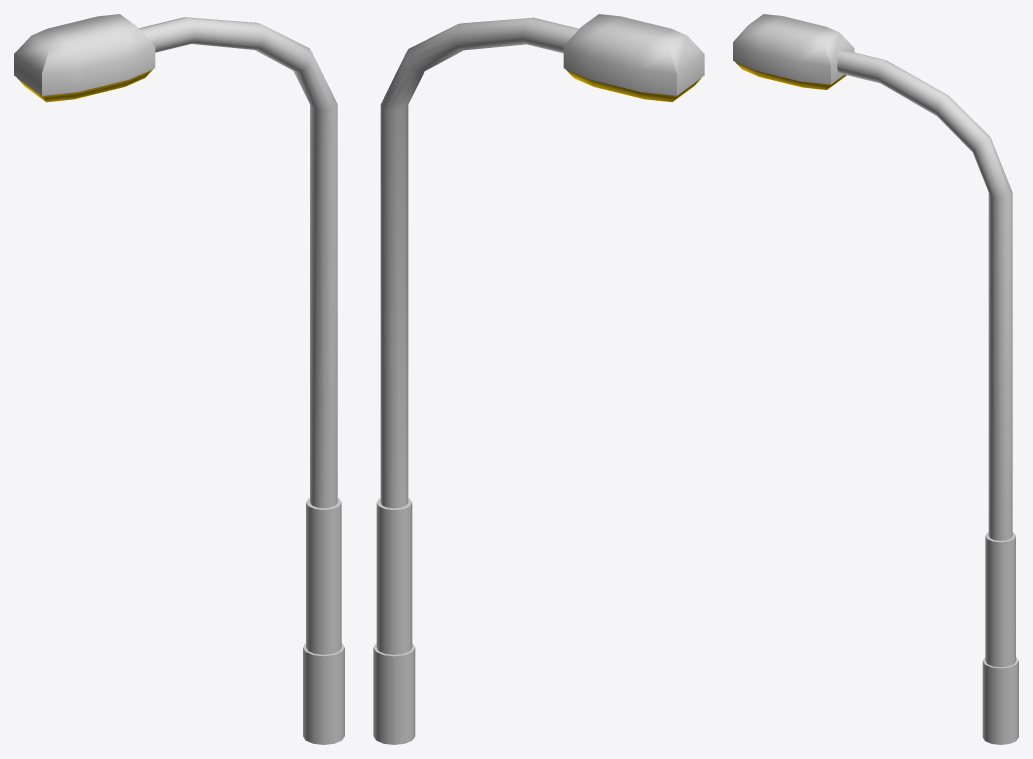
The model's file is light.fbx.
The picture shows the model from 3 angles, left to right: view 1: azimuth 30°, elevation 25°; view 2: azimuth 150°, elevation 25°; view 3: azimuth 330°, elevation 25°; orthographic projection. The views are drawn at different scales.
Parts seen in each view (by area): view 1: streetlight; view 2: streetlight; view 3: streetlight.
Boxes of the visible parts, box(x1,y1,x2,y2) form: streetlight: box(14, 14, 344, 744); streetlight: box(373, 14, 704, 744); streetlight: box(733, 14, 1018, 744).
Bounding box in the file's own units: 375 × 871 × 78.52.
